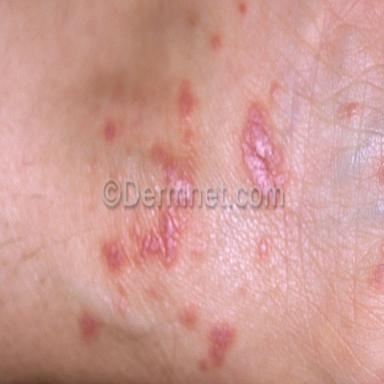lichen: (241, 103, 286, 188), (139, 210, 187, 266), (150, 144, 191, 185), (209, 324, 233, 365), (102, 240, 129, 271)
